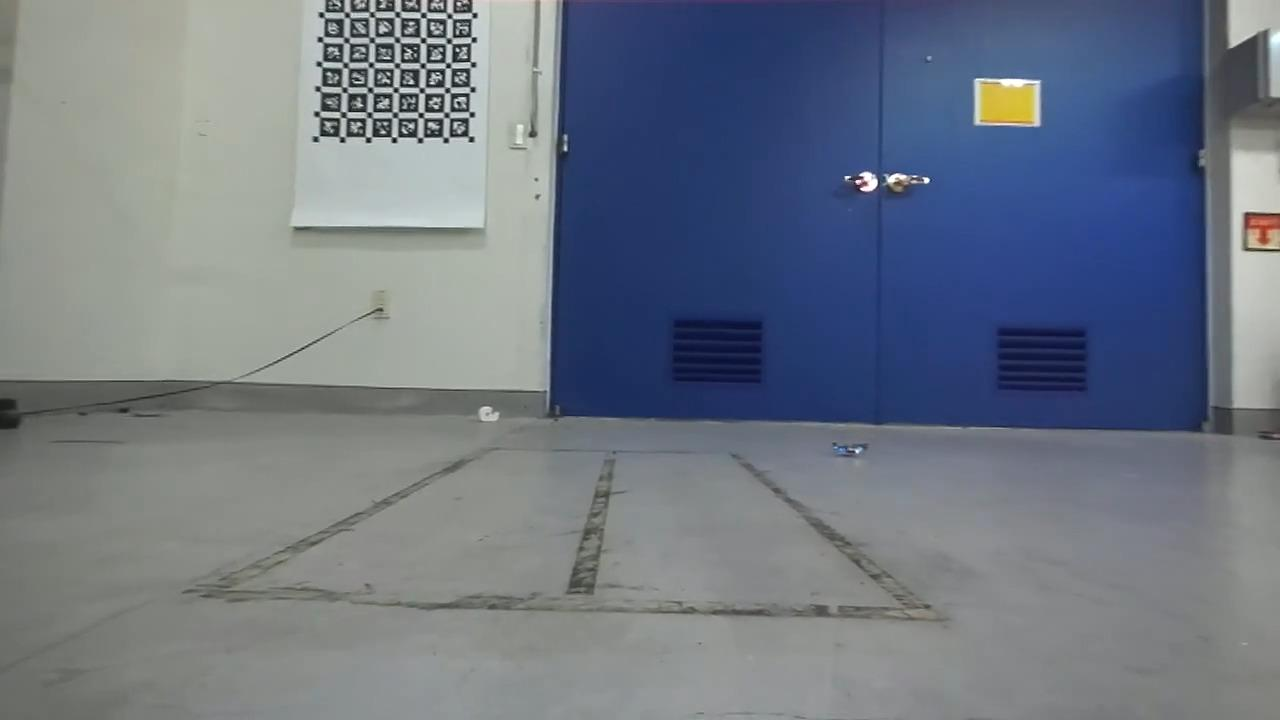crazyflie: (824, 435, 876, 466)
